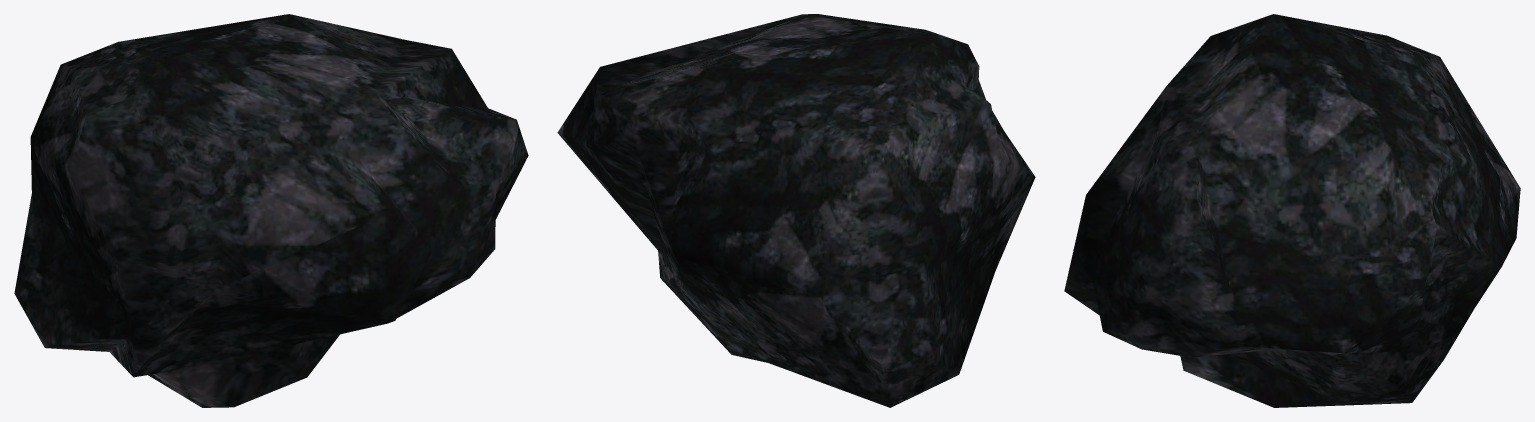
File: asteroid_obsidian_medium_s01_l2.fbx
3 renders of one model, left to right at view 1: azimuth 30°, elevation 25°; view 2: azimuth 150°, elevation 25°; view 3: azimuth 270°, elevation 25°, orthographic. The views are drawn at different scales.
Visible parts, largest first — view 1: mesh_node; view 2: mesh_node; view 3: mesh_node.
Boxes of the visible parts, x1,y1,x2,y2 form: mesh_node: (14,14,528,407); mesh_node: (557,14,1035,407); mesh_node: (1064,14,1520,407).
Bounding box in the file's own units: 86.34 × 66.86 × 75.88.
Materials: 1 (1 with a texture image).
